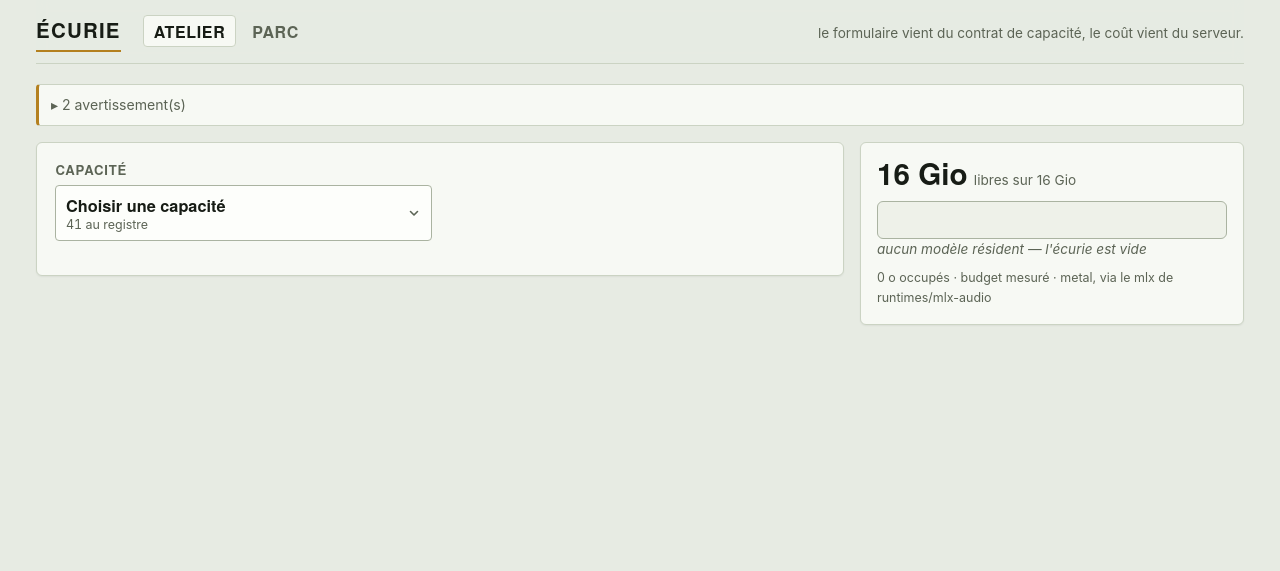
Scenario: ce qui refuse un job › une entree refusee par le contrat se lit champ par champ
Click the button "Choisir une capacité 41 au registre" at (146, 205), box [55,185,432,241]
(page scrolled)
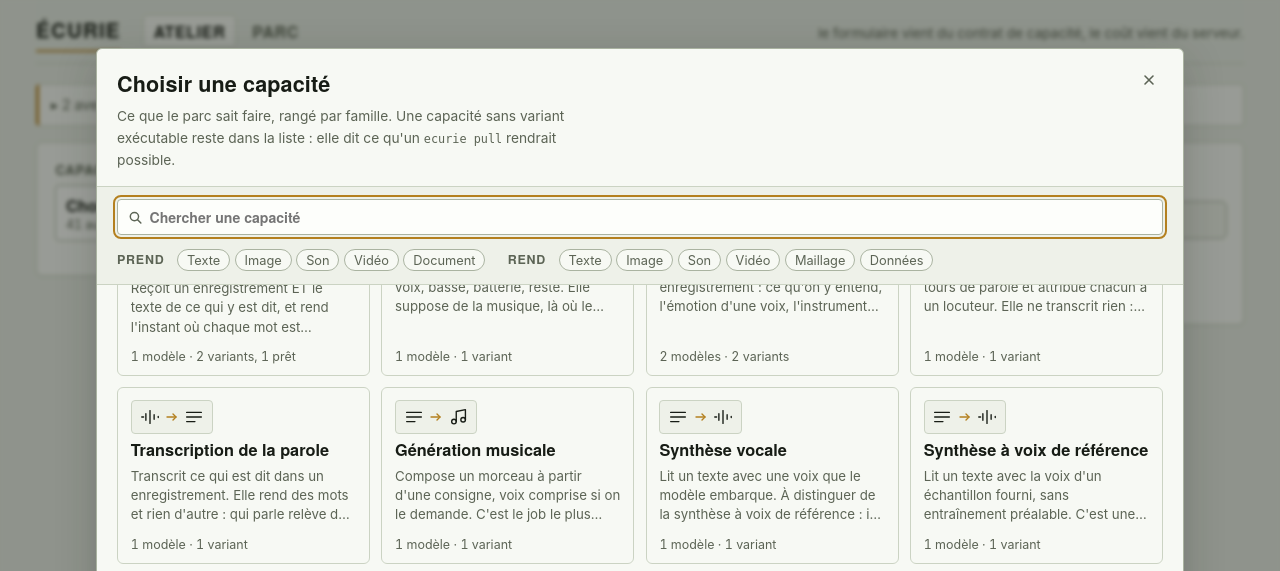
Click the button "Synthèse vocale" at (772, 475), box [646,387,899,564]
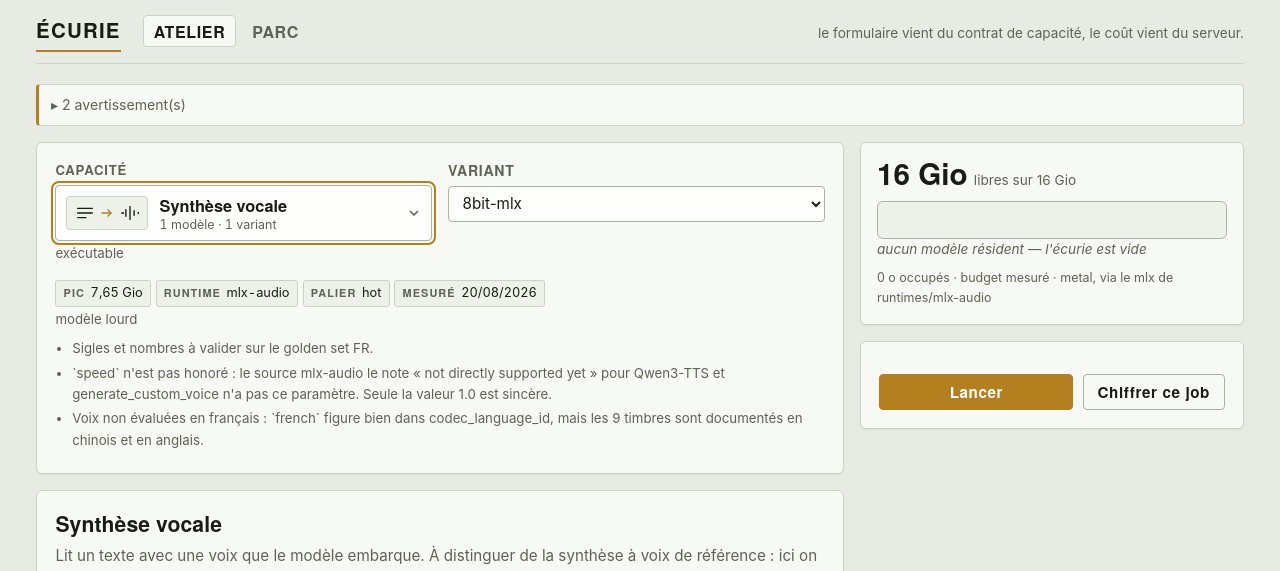
Click the button "Lancer" at (976, 392), box [879,374,1073,410]
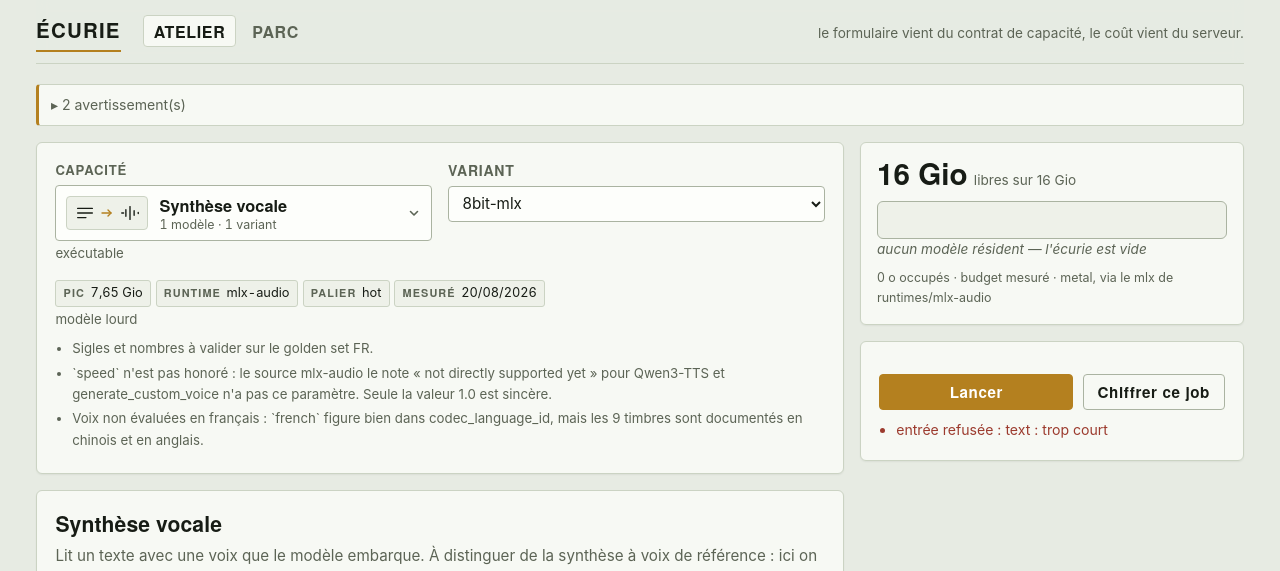
Check: the list item "entrée refusée : text : trop court" is shown, box [896,421,1108,438]
